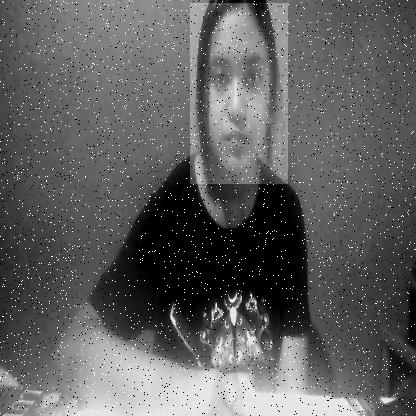Normal: (190, 3, 288, 184)
